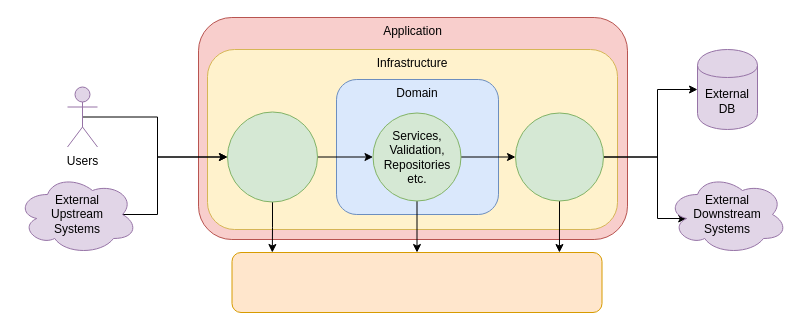
The diagram is 805 pixels wide and 330 high, and some of its shapes have lost their labels. Here are the shapes that lost their labels. From the top down, the centre of each, then its label:
At (272,156): "Webserver, Controllers, Routes etc.".
At (559,156): "DAOs, Message Publishers etc.".
At (416,282): "Entities".
